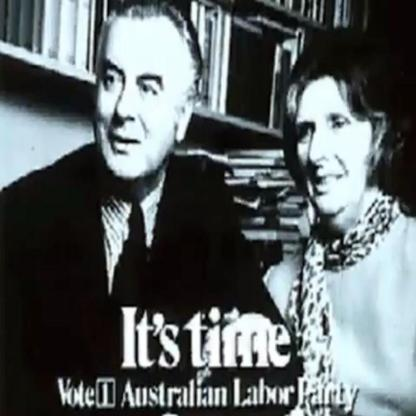face: (100, 22, 178, 179), (295, 88, 363, 214)
